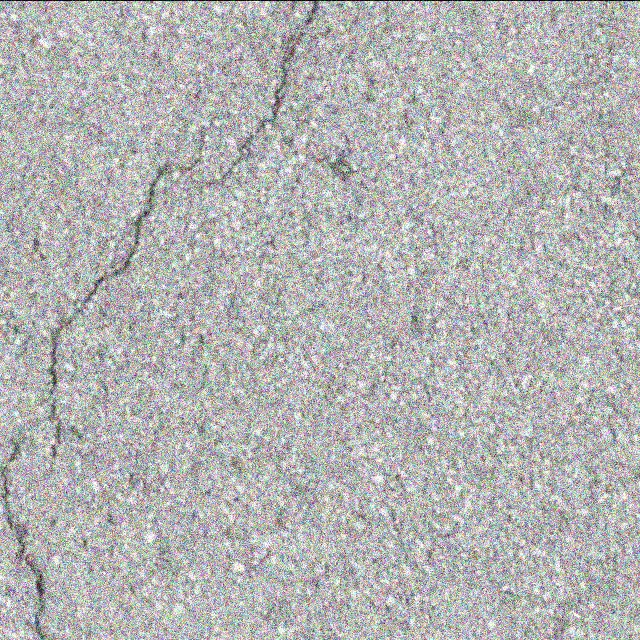SurfaceCrack: (1, 0, 620, 640)
